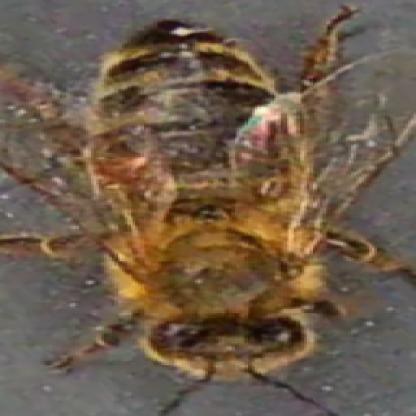bee: (69, 15, 338, 375)
